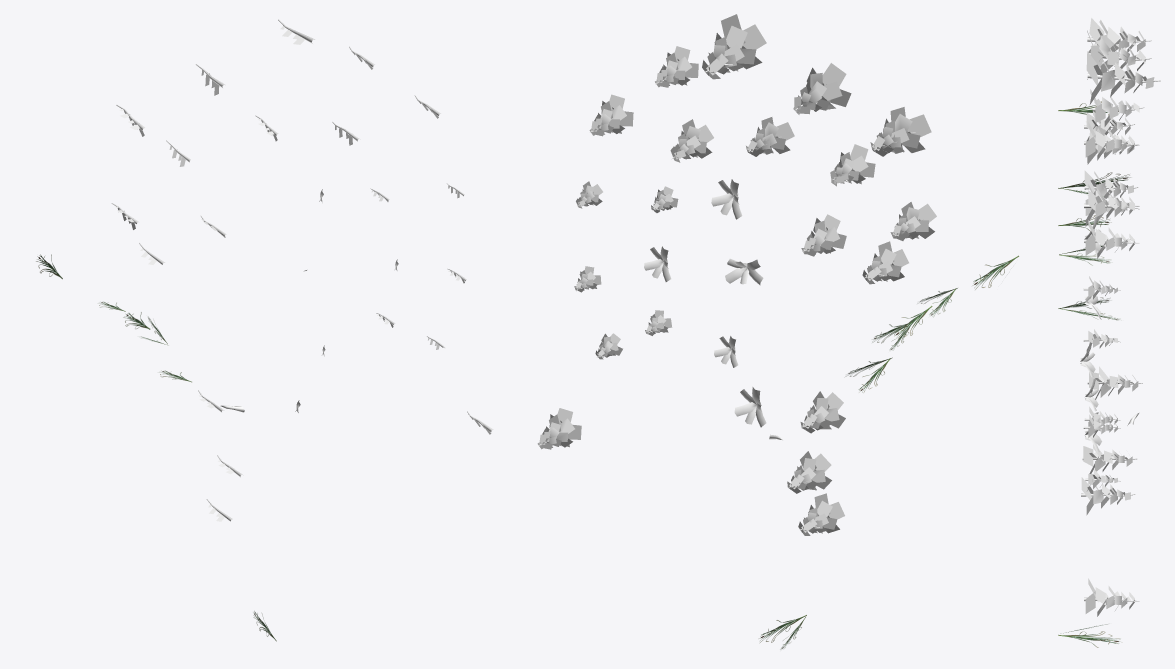
File: vegetation.glb
3 views of the same model, side by side, from view 1: azimuth 30°, elevation 25°; view 2: azimuth 150°, elevation 25°; view 3: azimuth 270°, elevation 25° (orthographic).
Visible parts, largest first — view 1: wooden2.png__, wooden.png__, Catail.png__; view 2: tree_1.png__, vegetation_1.png__, Catail.png__; view 3: tree_1.png__, Catail.png__, wooden2.png__, vegetation_1.png__, wooden.png__.
Part boxes in pixels (x1,y1,x2,y2): wooden2.png__: [115, 26, 491, 521]; wooden.png__: [111, 19, 493, 521]; Catail.png__: [36, 254, 276, 641]; tree_1.png__: [537, 14, 936, 535]; vegetation_1.png__: [644, 179, 766, 427]; Catail.png__: [759, 255, 1018, 649]; tree_1.png__: [1081, 18, 1154, 616]; Catail.png__: [1058, 101, 1130, 647]; wooden2.png__: [1085, 29, 1146, 600]; vegetation_1.png__: [1080, 216, 1101, 452]; wooden.png__: [1081, 37, 1160, 601].
Bounding box in the file's own units: 87.47 × 109 × 16.12.
6 materials, 1 textured.
